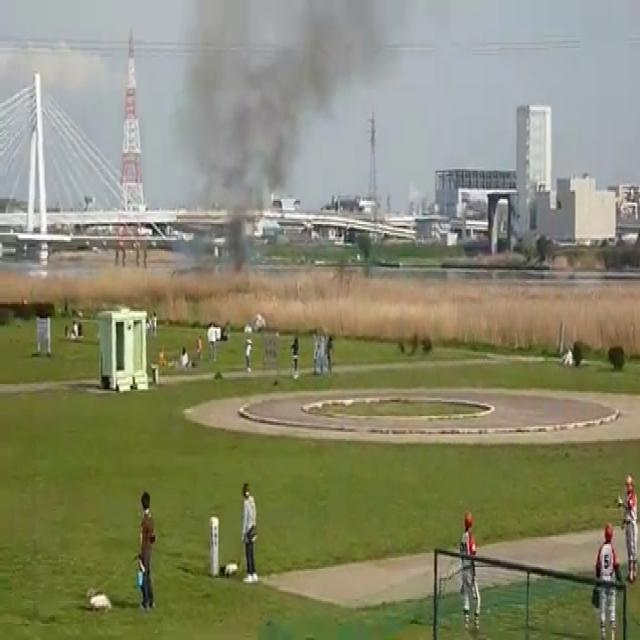Smoke: (166, 0, 439, 229)
